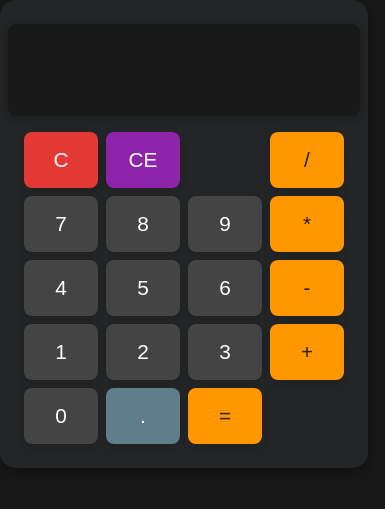
Test: Calculator Component › clear entry works
The image size is (385, 509).
Click the button "5". click: (143, 288)
box: [106,260,180,316]
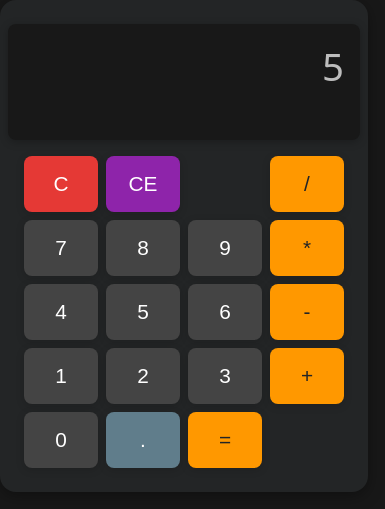
Click the button "2". click: (143, 376)
box: [106,348,180,404]
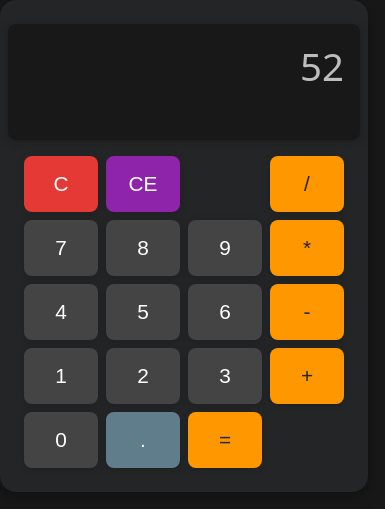
Click the button "CE". click: (143, 184)
box: [106,156,180,212]
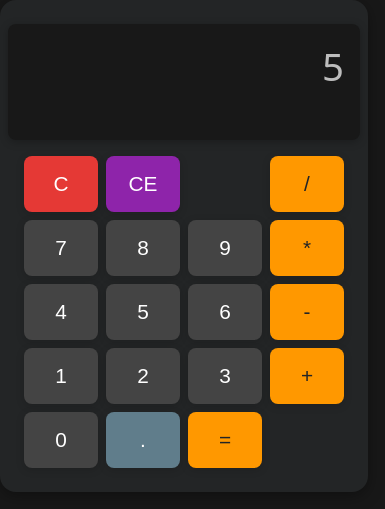
Result: the text with test id "input" reads "5" at [322,40,344,92]
